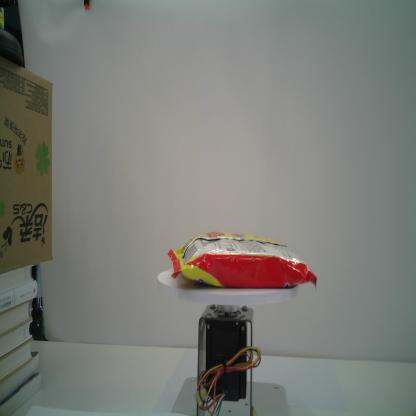Instant Noodles: (166, 229, 317, 291)
